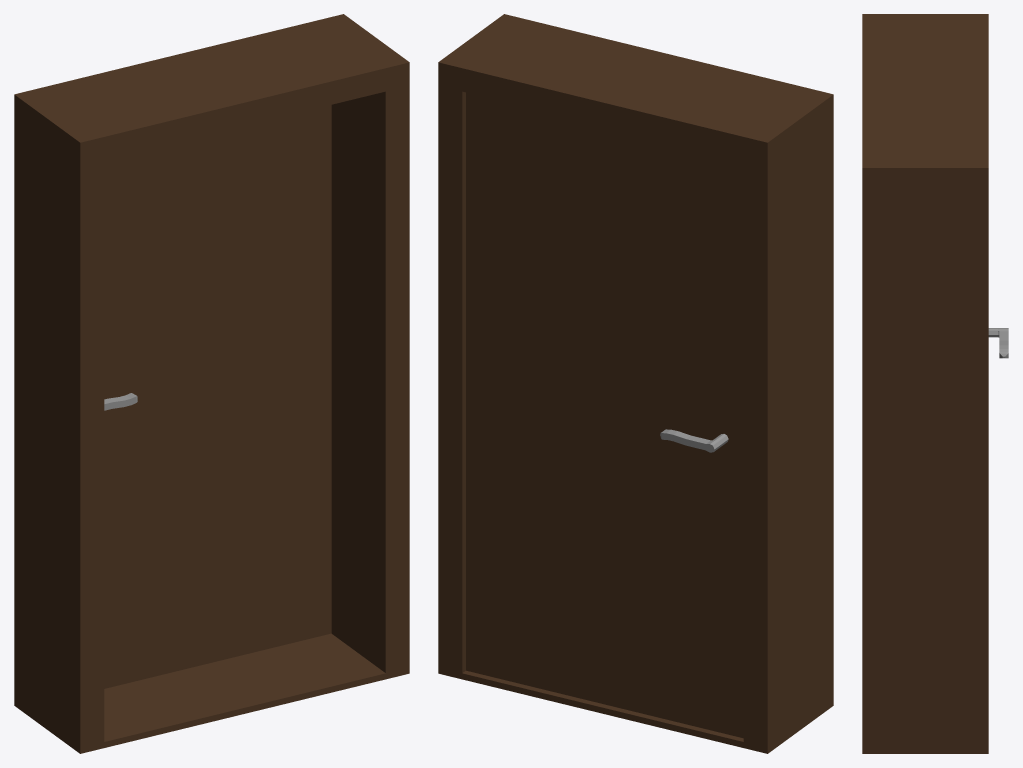
The model's file is doors.fbx.
3 renders of one model, left to right at view 1: azimuth 30°, elevation 25°; view 2: azimuth 150°, elevation 25°; view 3: azimuth 270°, elevation 25°, orthographic. The views are drawn at different scales.
Visible parts, largest first — view 1: Doorframe.039, Door.015; view 2: Door.015, Doorframe.039, Handle.015; view 3: Doorframe.039, Handle.015.
Part boxes in pixels (x1,y1,x2,y2): Doorframe.039: (14,14,409,753); Door.015: (104,105,331,688); Door.015: (466,92,743,738); Doorframe.039: (438,14,833,753); Handle.015: (660,429,728,452); Doorframe.039: (862,14,988,753); Handle.015: (988,328,1008,358).
Bounding box in the file's own units: 116 × 205 × 46.51.
